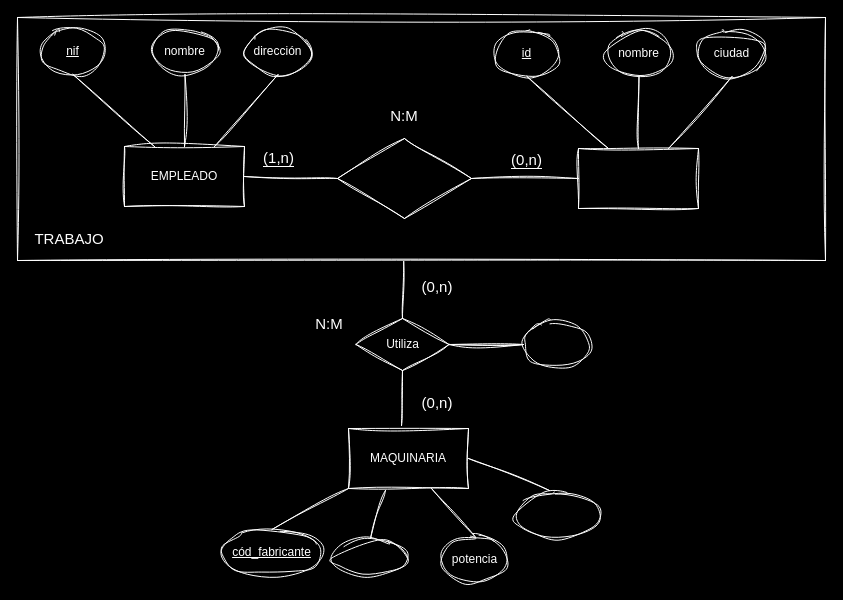
The diagram is 843 pixels wide and 600 high, and some of its shapes have lost their labels. Here are the shapes that lost their labels. From the top down, the centre of each, then its label:
At pixel 404 178: "Trabaja".
At pixel 638 178: "PROYECTO".
At pixel 556 344: "fecha".
At pixel 557 515: "ubicación".
At pixel 370 557: "tipo".
